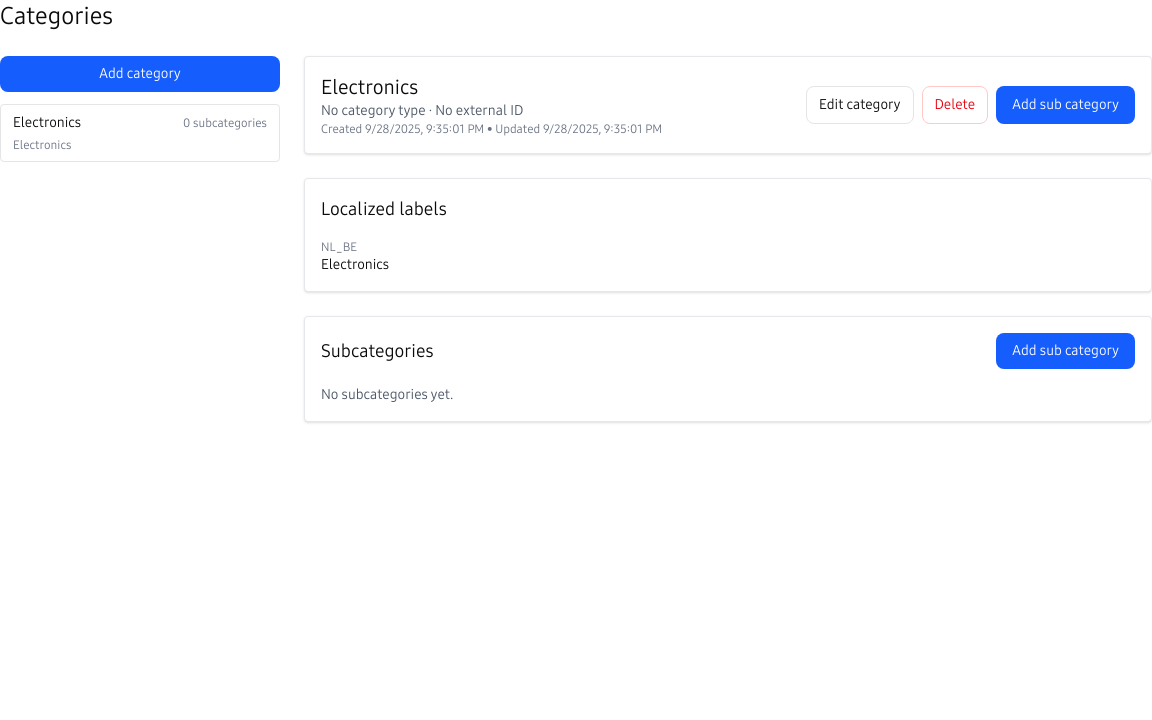
Test: Admin categories CRUD UI › renders list and opens create dialog when Add category is clicked
Expected: the 1st text "Electronics" is shown, x1=13 y1=113 x2=81 y2=133
Click the button "Add category": (140, 74) x1=0 y1=56 x2=280 y2=92
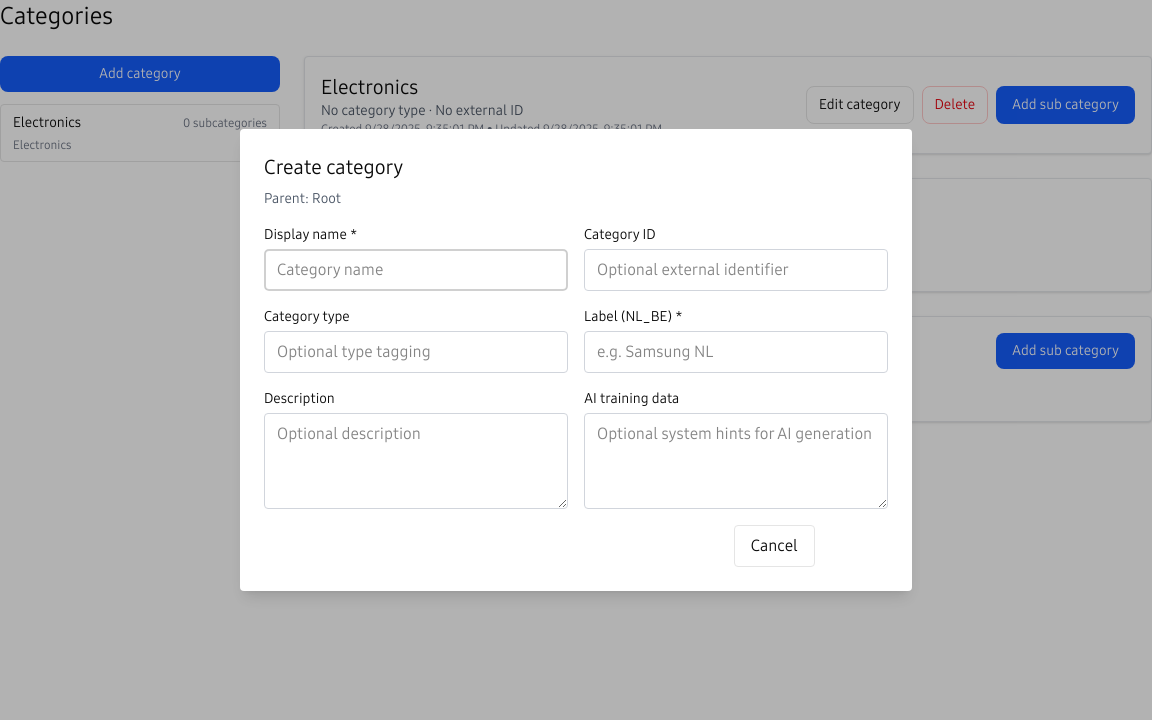
Expected: the dialog is shown
Expected: the field with placeholder "Category name" is shown, x1=264 y1=249 x2=568 y2=291
